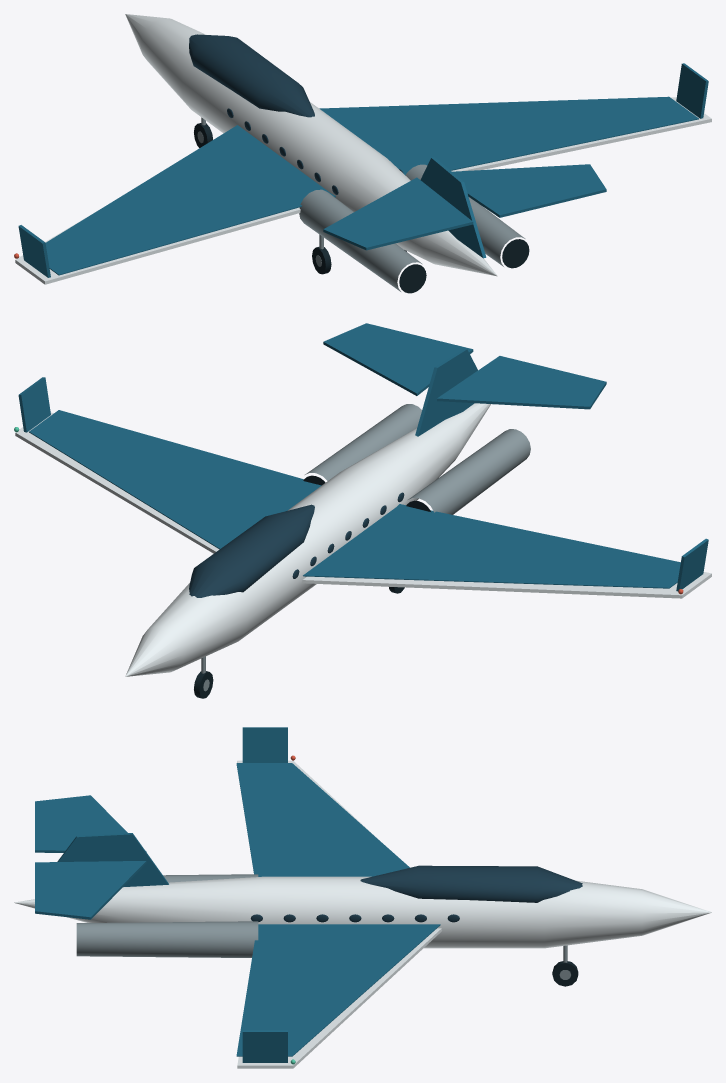
3 renders of one model, top to bottom at view 1: azimuth 30°, elevation 25°; view 2: azimuth 150°, elevation 25°; view 3: azimuth 270°, elevation 25°, orthographic. The views are drawn at different scales.
Visible parts, largest first — view 1: 云帆 B-62 original model, landing-gear; view 2: 云帆 B-62 original model, landing-gear; view 3: 云帆 B-62 original model, landing-gear.
Boxes of the visible parts, bbox=[...] form: 云帆 B-62 original model: bbox=[14, 14, 711, 293]; landing-gear: bbox=[194, 117, 406, 274]; 云帆 B-62 original model: bbox=[14, 323, 711, 676]; landing-gear: bbox=[194, 587, 404, 698]; 云帆 B-62 original model: bbox=[14, 727, 711, 1068]; landing-gear: bbox=[552, 945, 578, 986].
Bounding box in the file's own units: 21.17 × 4.87 × 20.4.
